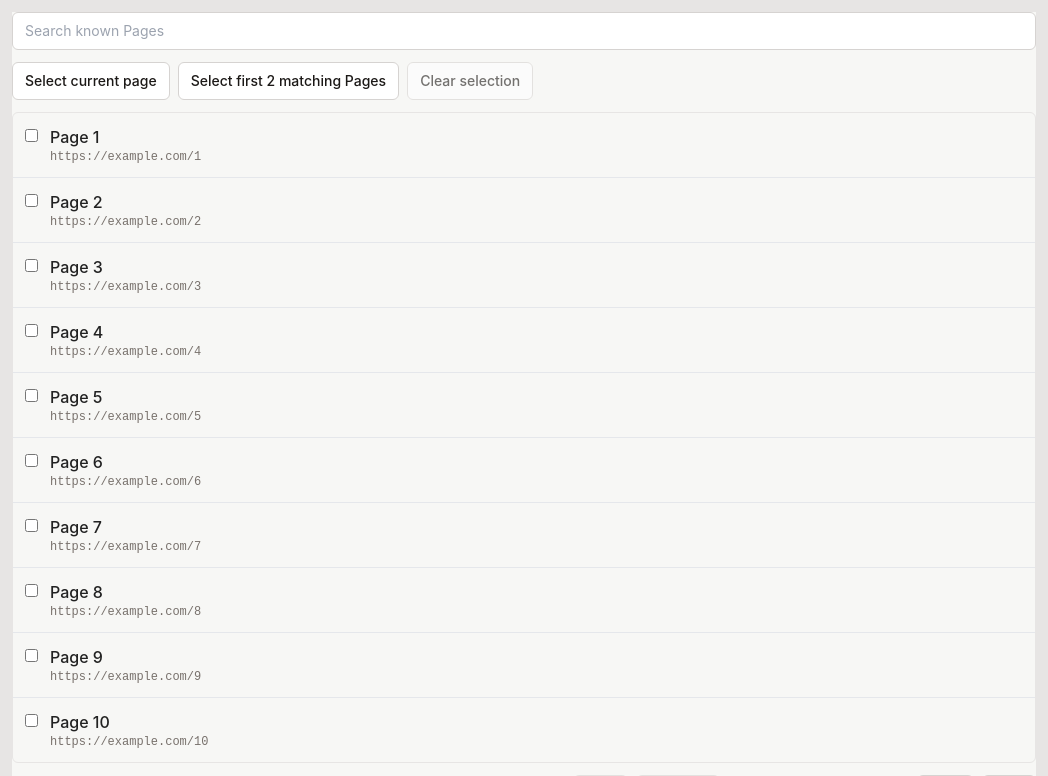
it: CollectionPageSelector › preserves selections across search and enforces the hard cap
Click the checkbox labelled "Page 1 https://example.com/1".
click(32, 136)  # box x1=25 y1=129 x2=38 y2=142
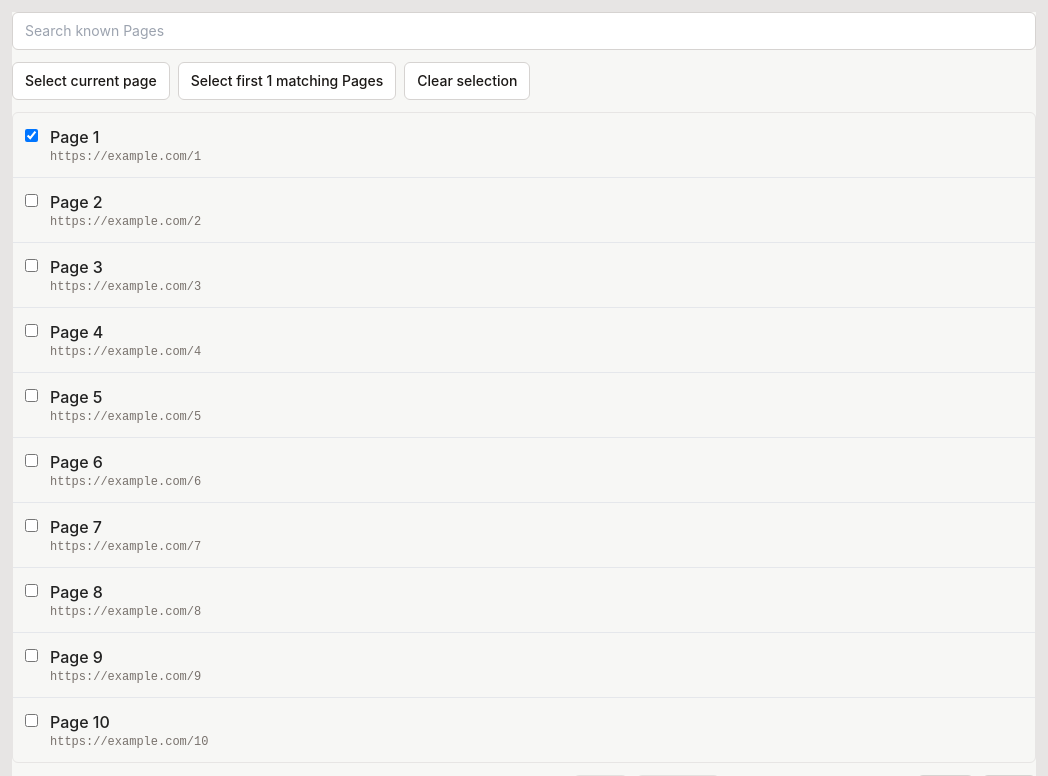
Type "pricing" into the field named "Search Pages for Performance".
click(524, 31); type("pricing")  # box x1=12 y1=12 x2=1036 y2=50
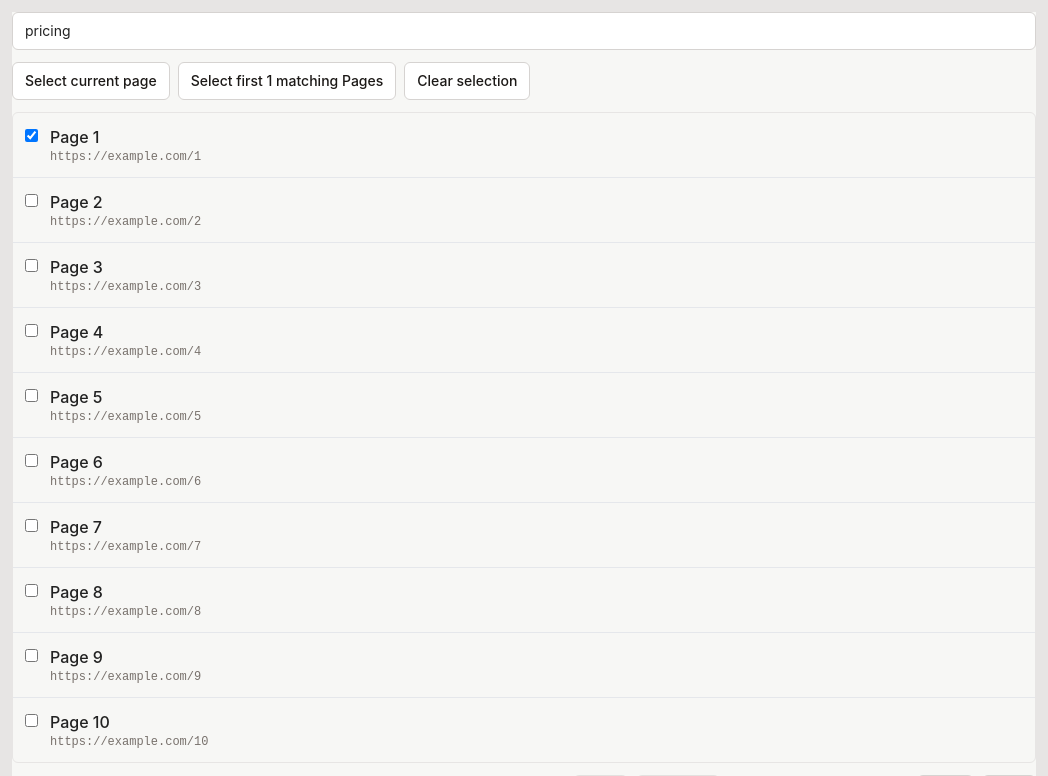
Result: the checkbox labelled "Page 1 https://example.com/1" is checked at x1=25 y1=129 x2=38 y2=142
Click the checkbox labelled "Page 2 https://example.com/2".
click(32, 200)  # box x1=25 y1=194 x2=38 y2=207
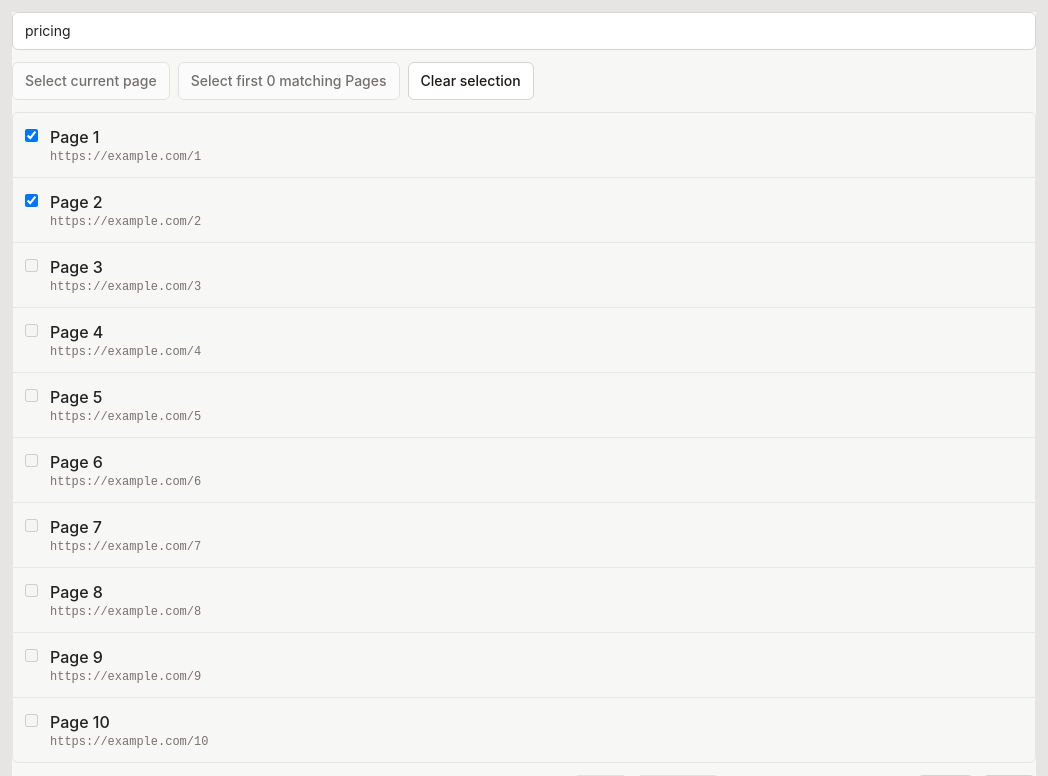
Result: the checkbox labelled "Page 3 https://example.com/3" is disabled at x1=25 y1=259 x2=38 y2=272
